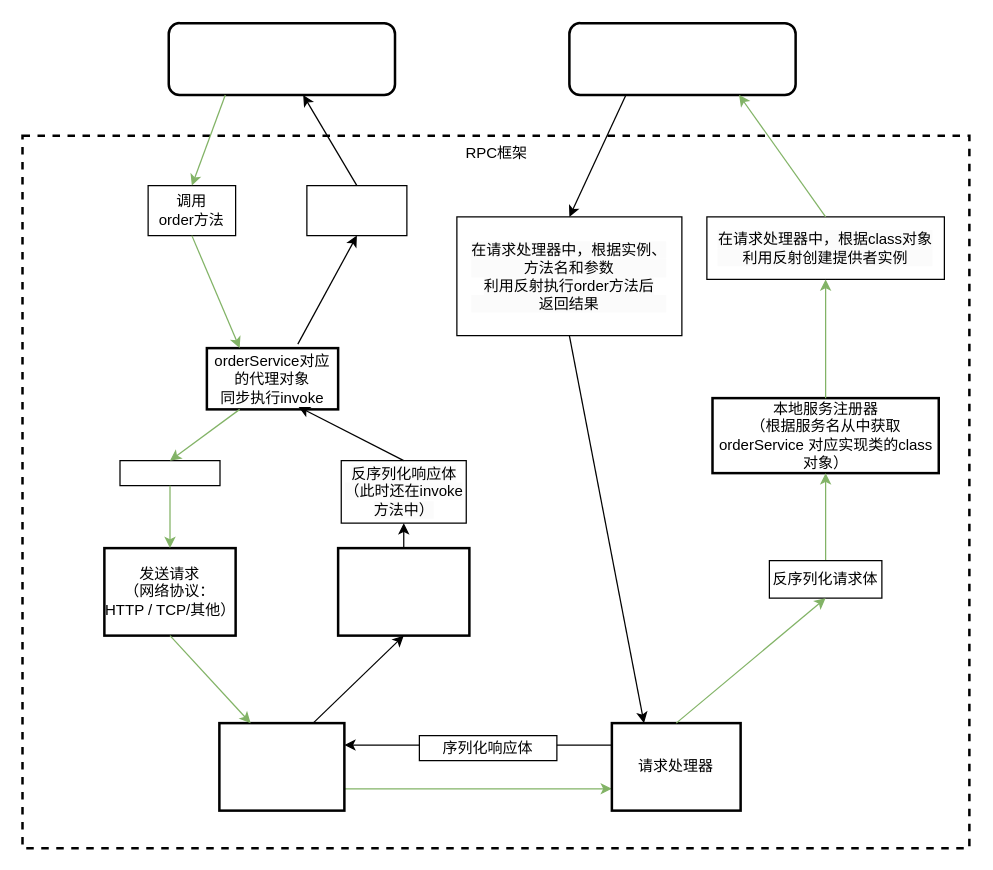
Image size: 993x870. Some labels were removed from this diagram. Here are the shapes that lost their labels. From the top down, the centre of each, then its label:
At point (281, 58): "消费者 （已知orderService 接口 存在order 方法）".
At point (682, 58): "提供者 （实现了orderService 接口 的order 方法）".
At point (356, 210): "返回 对应结果".
At point (169, 472): "序列化请求体".
At point (403, 591): "返回响应 （网络协议：HTTP / TCP/其他）".
At point (281, 766): "web 服务器 （Tomat、Netty或Vert.x)".
